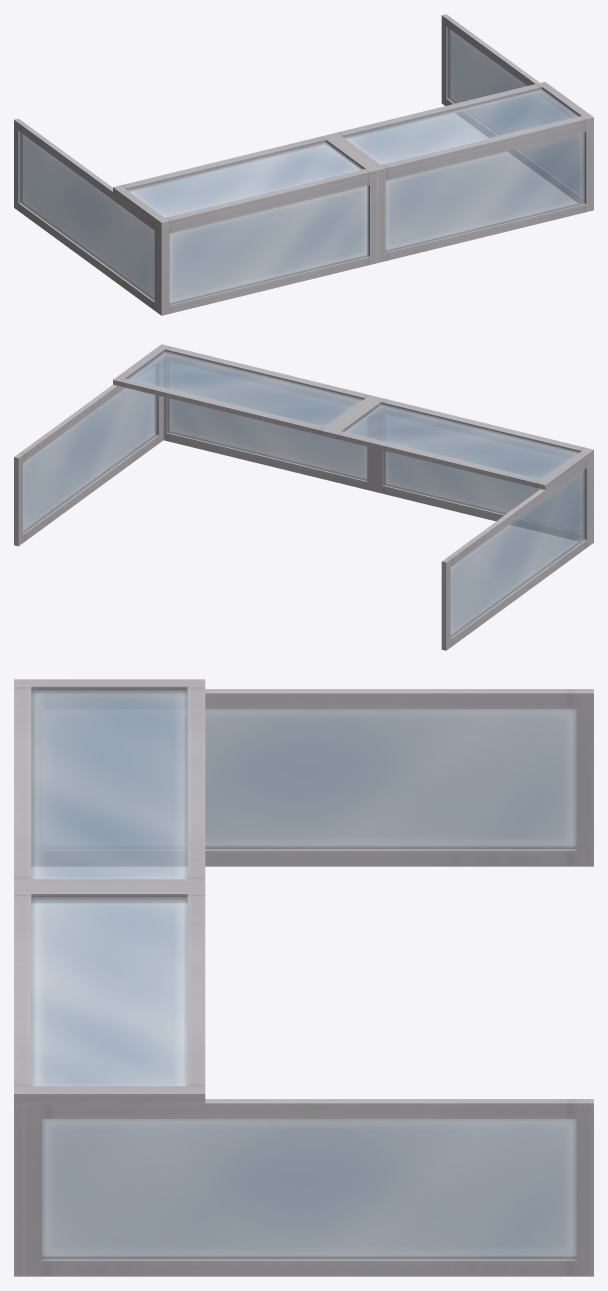
The model's file is jsf_AdditionalWindow_s01.fbx.
The picture shows the model from 3 angles, top to bottom: view 1: azimuth 30°, elevation 25°; view 2: azimuth 150°, elevation 25°; view 3: azimuth 270°, elevation 25°; orthographic projection. The views are drawn at different scales.
Visible parts, largest first — view 1: Window, Frame; view 2: Window, Frame; view 3: Window, Frame.
Part boxes in pixels (x1,y1,x2,y2): Window: (20,28,585,304); Frame: (14,14,593,315); Window: (23,351,585,637); Frame: (14,344,593,650); Window: (31,690,576,1259); Frame: (14,679,593,1276).
Bounding box in the file's own units: 141 × 28.91 × 83.15.
